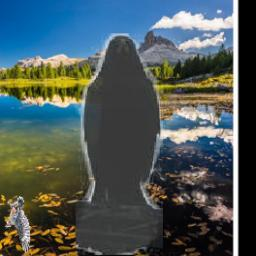Crow: (76, 35, 163, 256)
Woodpecker: (5, 197, 30, 254)
